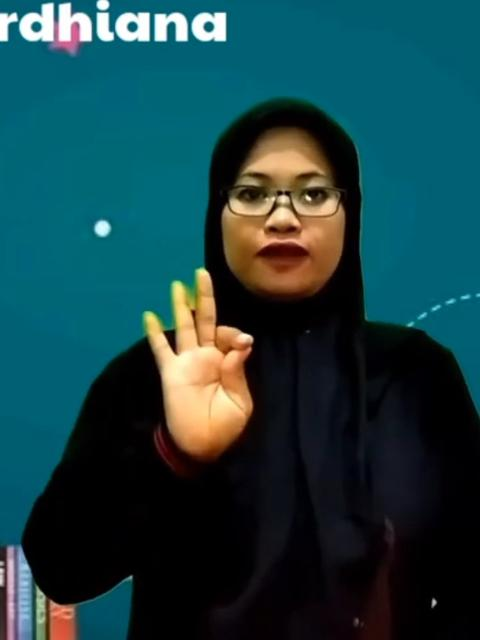F: (140, 264, 258, 452)
